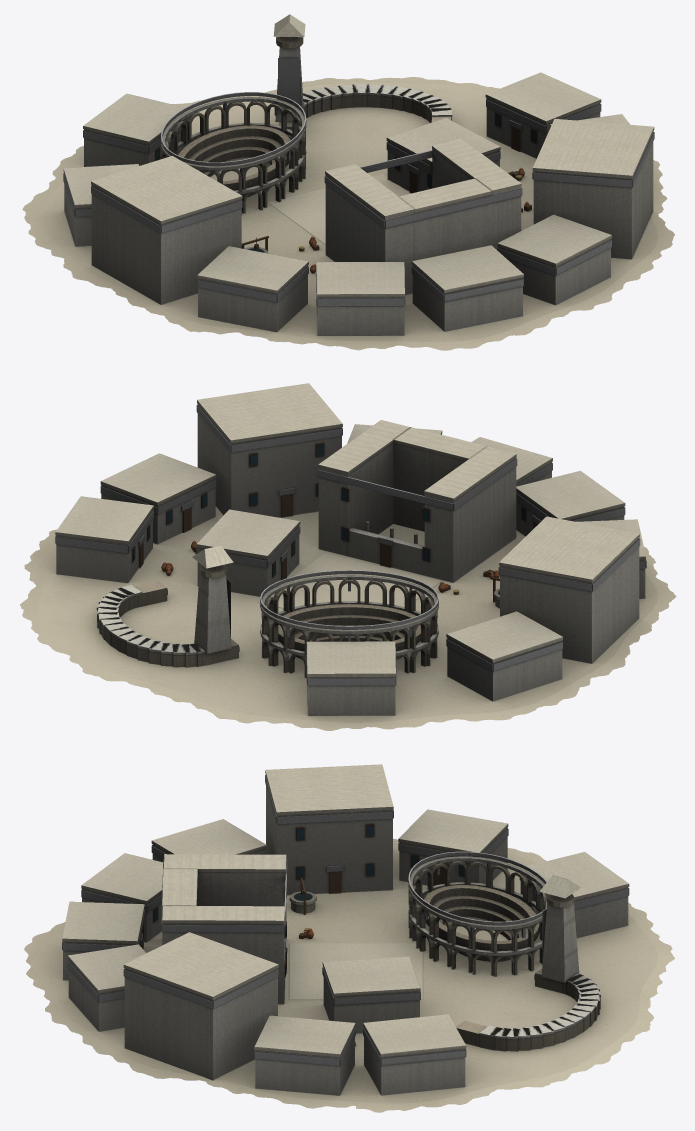
Rendered from classical-town-medium-a-maghreb-774b27f2.glb.
3 views of the same model, one above another, from view 1: azimuth 30°, elevation 25°; view 2: azimuth 150°, elevation 25°; view 3: azimuth 270°, elevation 25° (orthographic).
Parts seen in each view (by area): view 1: LOD0; view 2: LOD0; view 3: LOD0.
Part boxes in pixels (x1,y1,x2,y2): LOD0: (22,14,674,350); LOD0: (20,383,676,730); LOD0: (24,764,674,1112).
Size of what is drawn, in the model's own units: 5.97 by 1.13 by 6.02.
Materials: 3 (3 with a texture image).
